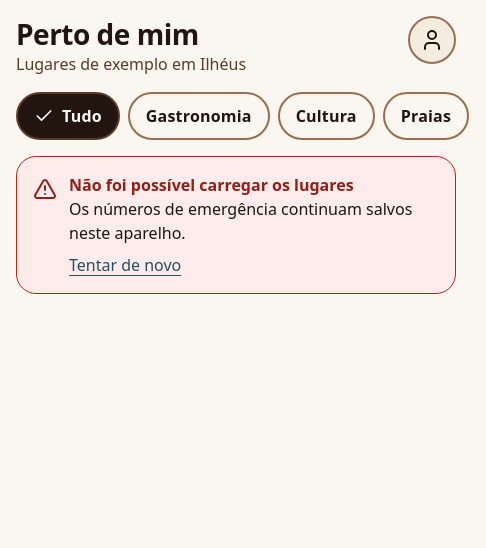
Test: NearbyScreen › shows the error block and Tentar de novo loads again
Expected: the text "Não foi possível carregar os lugares" is shown, [69,174,354,196]
Expected: the text "Os números de emergência continuam salvos neste aparelho." is shown, [69,197,439,245]
Step 1. Click the button "Tentar de novo" → (125, 265), box [69,253,181,277]
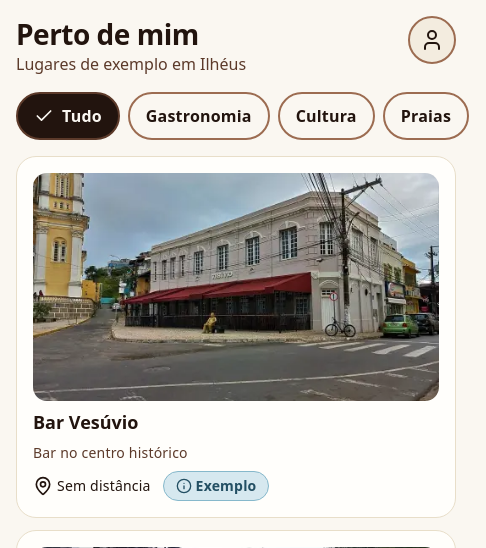
Expected: the text "Bar Vesúvio" is shown, [33,410,138,434]
